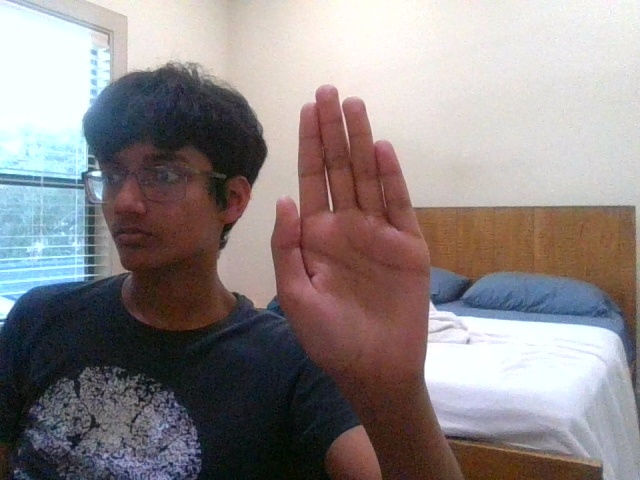hello: (271, 84, 431, 374)
